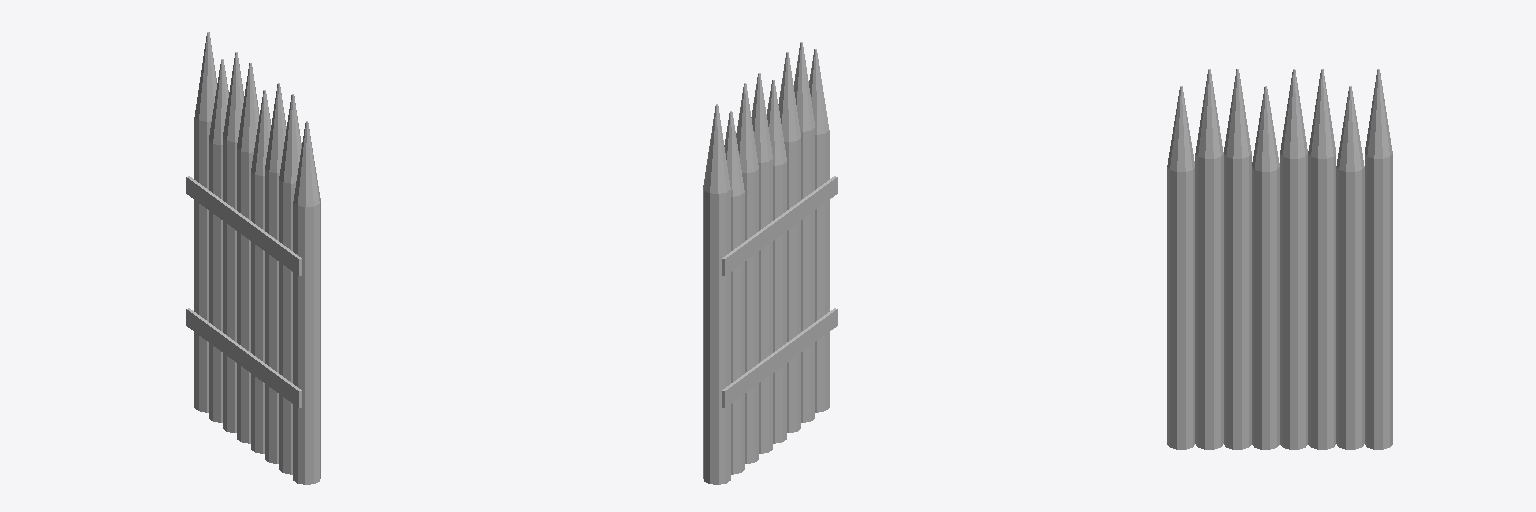
File: vallaobj.obj
3 renders of one model, left to right at view 1: azimuth 30°, elevation 25°; view 2: azimuth 150°, elevation 25°; view 3: azimuth 270°, elevation 25°, orthographic.
Parts seen in each view (by area): view 1: Cube.001_Cube.002; view 2: Cube.001_Cube.002; view 3: Cube.001_Cube.002.
Part boxes in pixels (x1,y1,x2,y2): Cube.001_Cube.002: (186,32,320,484); Cube.001_Cube.002: (703,42,837,484); Cube.001_Cube.002: (1167,69,1392,449).
Bounding box in the file's own units: 0.3716 × 5.03 × 2.74.